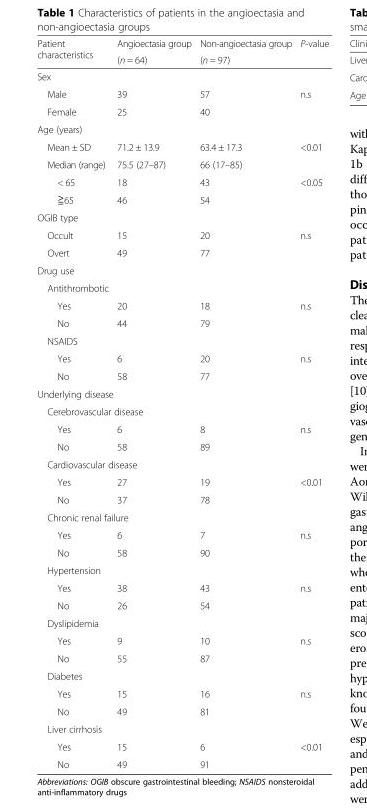table: (36, 37, 328, 769)
table column: (194, 37, 295, 769), (112, 37, 194, 769), (36, 37, 112, 769), (295, 37, 328, 769)
table column header: (36, 37, 328, 67)
table projected row header: (36, 208, 328, 226), (36, 278, 328, 296), (36, 331, 328, 349), (36, 384, 328, 402), (36, 402, 328, 420), (36, 666, 328, 684), (36, 719, 328, 737), (36, 67, 328, 84), (36, 120, 328, 137), (36, 261, 328, 278), (36, 455, 328, 472), (36, 508, 328, 525), (36, 561, 328, 578), (36, 614, 328, 631)
table row: (36, 84, 328, 102), (36, 102, 328, 120), (36, 137, 328, 155), (36, 155, 328, 173), (36, 190, 328, 208), (36, 208, 328, 226), (36, 243, 328, 261), (36, 278, 328, 296), (36, 296, 328, 314), (36, 331, 328, 349), (36, 349, 328, 367), (36, 384, 328, 402), (36, 402, 328, 420), (36, 437, 328, 455), (36, 472, 328, 490), (36, 490, 328, 508), (36, 525, 328, 543), (36, 543, 328, 561), (36, 578, 328, 596), (36, 596, 328, 614), (36, 631, 328, 649), (36, 666, 328, 684), (36, 684, 328, 702), (36, 719, 328, 737), (36, 737, 328, 755), (36, 67, 328, 84), (36, 120, 328, 137), (36, 173, 328, 190), (36, 226, 328, 243), (36, 261, 328, 278), (36, 314, 328, 331), (36, 367, 328, 384), (36, 420, 328, 437), (36, 455, 328, 472), (36, 508, 328, 525), (36, 561, 328, 578), (36, 614, 328, 631), (36, 649, 328, 666), (36, 702, 328, 719), (36, 51, 328, 67), (36, 37, 328, 51), (36, 755, 328, 769)
table spanning cell: (194, 37, 295, 67), (112, 37, 194, 67), (36, 37, 112, 67), (295, 84, 328, 120), (295, 472, 328, 508), (295, 525, 328, 561), (295, 578, 328, 614), (295, 173, 328, 208), (295, 226, 328, 261), (295, 296, 328, 331), (295, 349, 328, 384), (295, 420, 328, 455), (295, 631, 328, 666), (295, 684, 328, 719), (295, 737, 328, 769), (295, 37, 328, 67)
